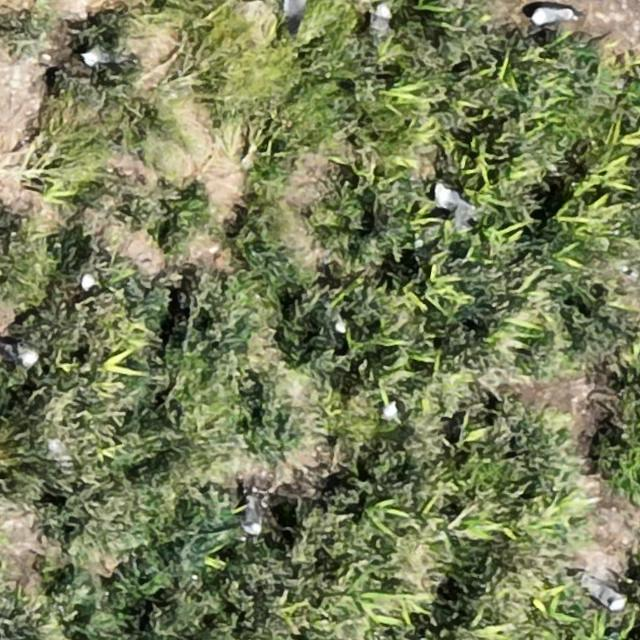umineko: (435, 182, 475, 216), (587, 583, 623, 608), (372, 4, 392, 40), (4, 341, 35, 364), (532, 7, 567, 26), (242, 501, 261, 535), (82, 48, 108, 65), (380, 400, 398, 420)
